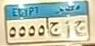5: (37, 24, 46, 37), (28, 25, 37, 37), (8, 26, 17, 38), (18, 25, 26, 38)
alif: (63, 20, 72, 38)
jeem: (74, 18, 87, 38), (49, 20, 62, 37)
